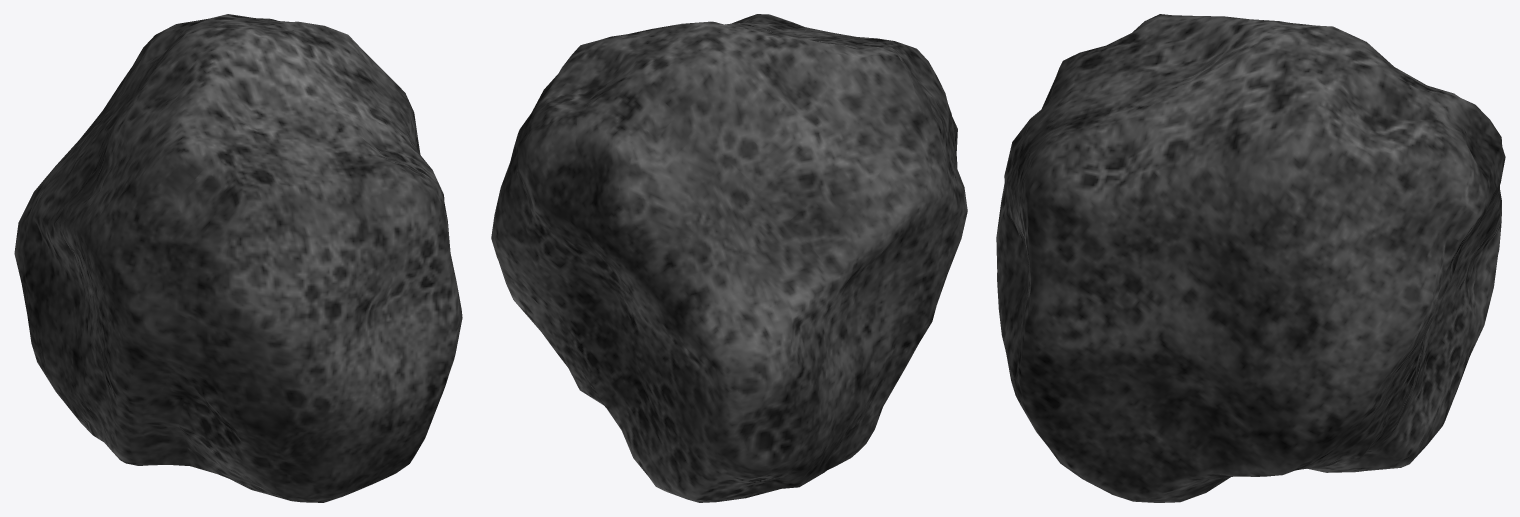
The picture shows the model from 3 angles, left to right: view 1: azimuth 30°, elevation 25°; view 2: azimuth 150°, elevation 25°; view 3: azimuth 270°, elevation 25°; orthographic projection. The views are drawn at different scales.
Parts seen in each view (by area): view 1: Asteroid_no_3_Material #3_0; view 2: Asteroid_no_3_Material #3_0; view 3: Asteroid_no_3_Material #3_0.
Boxes of the visible parts, x1,y1,x2,y2 form: Asteroid_no_3_Material #3_0: (14, 14, 462, 502); Asteroid_no_3_Material #3_0: (491, 14, 967, 502); Asteroid_no_3_Material #3_0: (996, 14, 1505, 502).
Size of the model in its own units: 6.64 by 7.2 by 7.38.
Materials: 1 (1 with a texture image).
